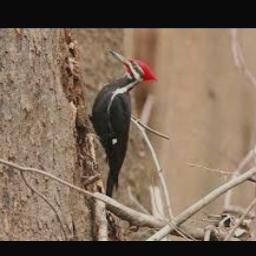Woodpecker: (90, 50, 158, 199)
